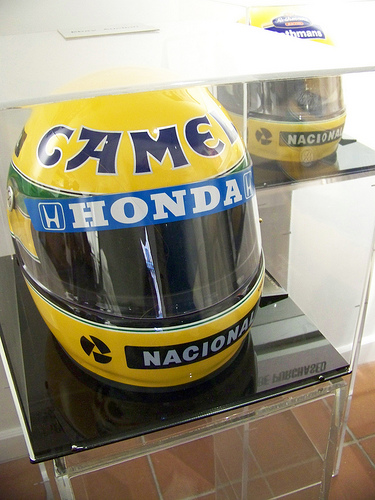helmet: (14, 113, 274, 373)
